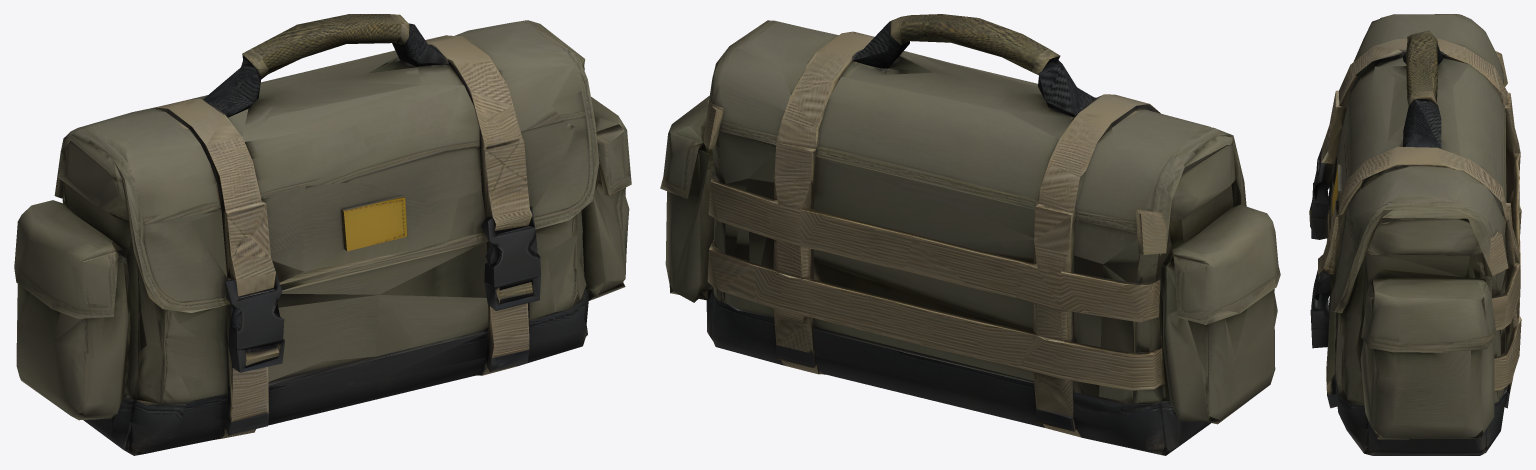
The model's file is Asset_01_LOD2.fbx.
3 renders of one model, left to right at view 1: azimuth 30°, elevation 25°; view 2: azimuth 150°, elevation 25°; view 3: azimuth 270°, elevation 25°, orthographic. The views are drawn at different scales.
Visible parts, largest first — view 1: Asset_01_LOD2; view 2: Asset_01_LOD2; view 3: Asset_01_LOD2.
Boxes of the visible parts, x1,y1,x2,y2 form: Asset_01_LOD2: (14, 14, 631, 455); Asset_01_LOD2: (660, 14, 1280, 455); Asset_01_LOD2: (1309, 14, 1521, 455).
Size of the model in its own units: 0.4991 by 0.2941 by 0.1825.
Materials: 1 (1 with a texture image).
